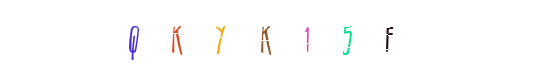1: (238, 0, 318, 80)
5: (307, 0, 387, 80)
F: (348, 0, 428, 80)
K: (180, 0, 260, 80), (193, 0, 273, 80)
Q: (93, 0, 173, 80)
Y: (192, 0, 272, 80)
